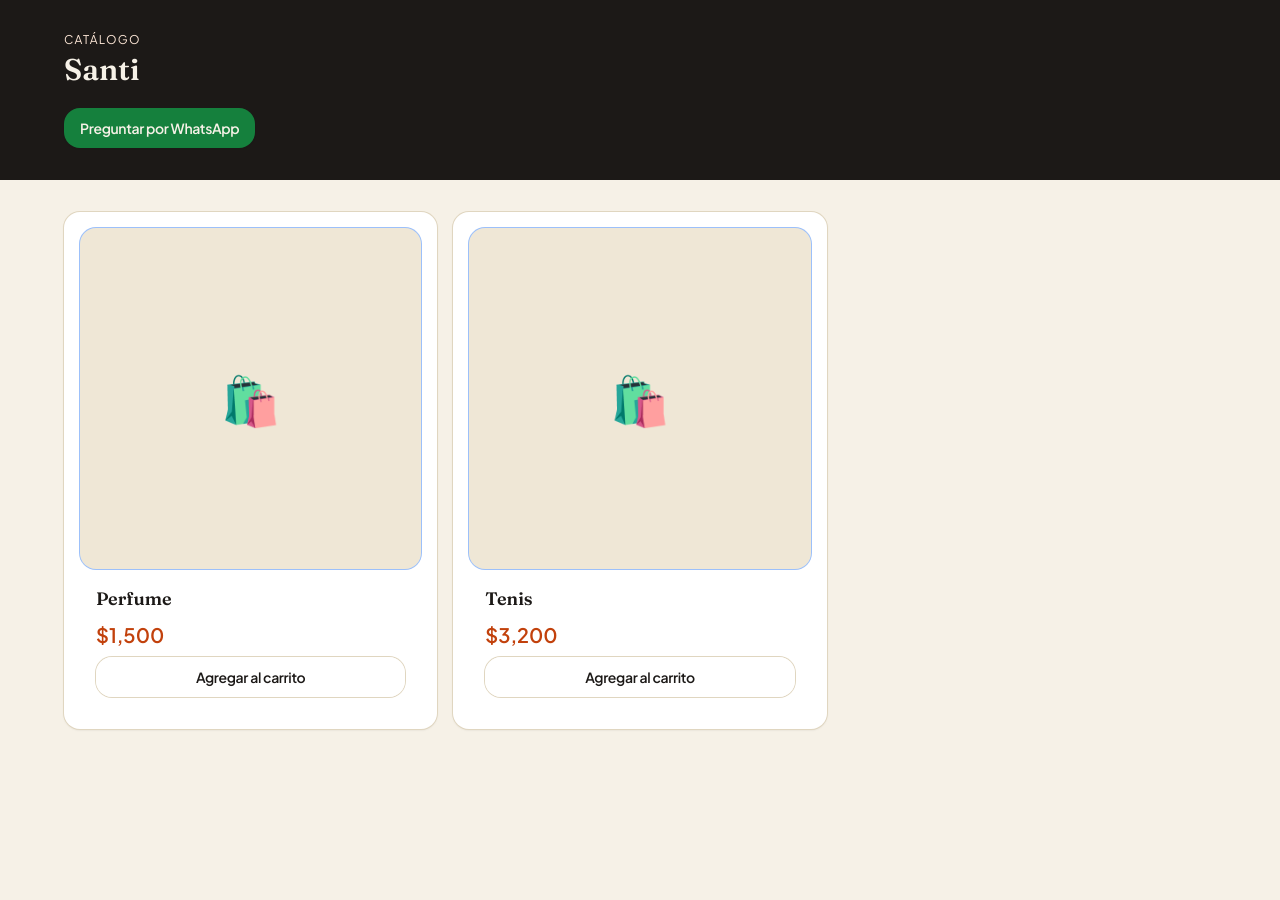
Test: PublicCatalogScreen carrito › agrega productos, muestra cantidades en las tarjetas y arma el pedido
Click the button "Agregar al carrito" below "$1,500". click: (251, 677)
box: [96,657,405,697]
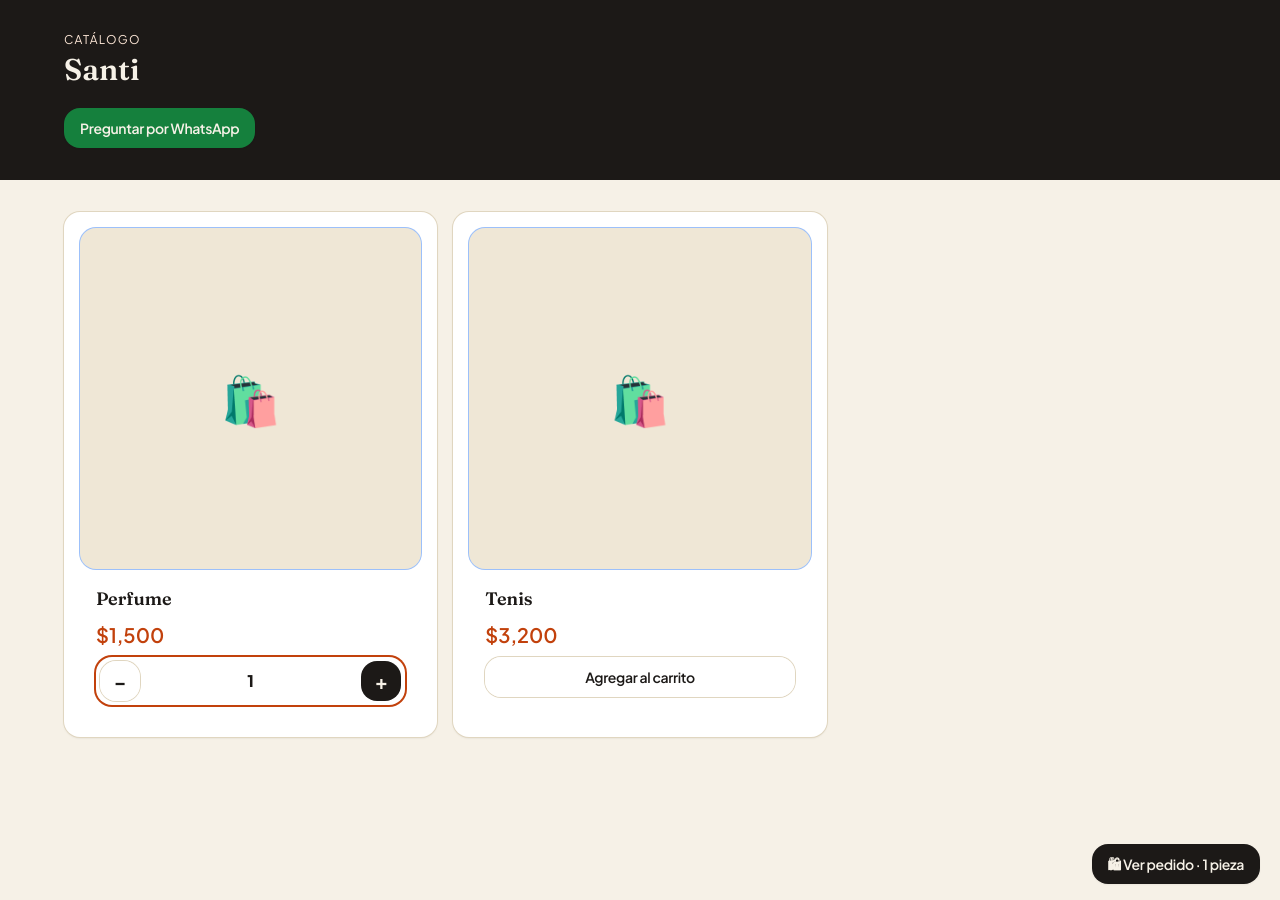
Check: the text "1" is shown, box [247,670,254,691]
Click the button named "Sumar una pieza de Perfume". click: (381, 681)
box: [361,661,401,701]
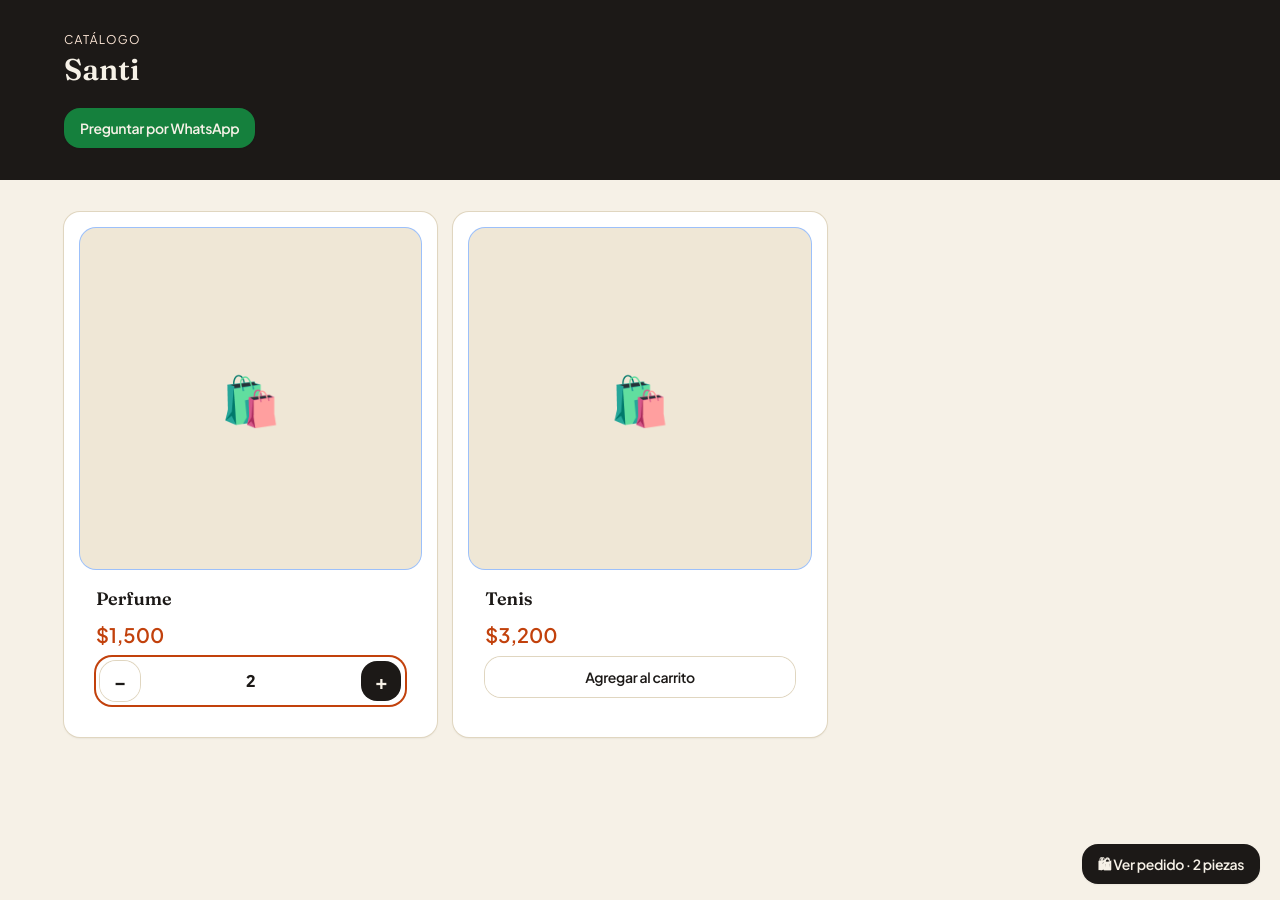
Check: the text "2" is shown, box [246,670,255,691]
Click the button "Agregar al carrito". click: (640, 677)
box: [485,657,795,697]
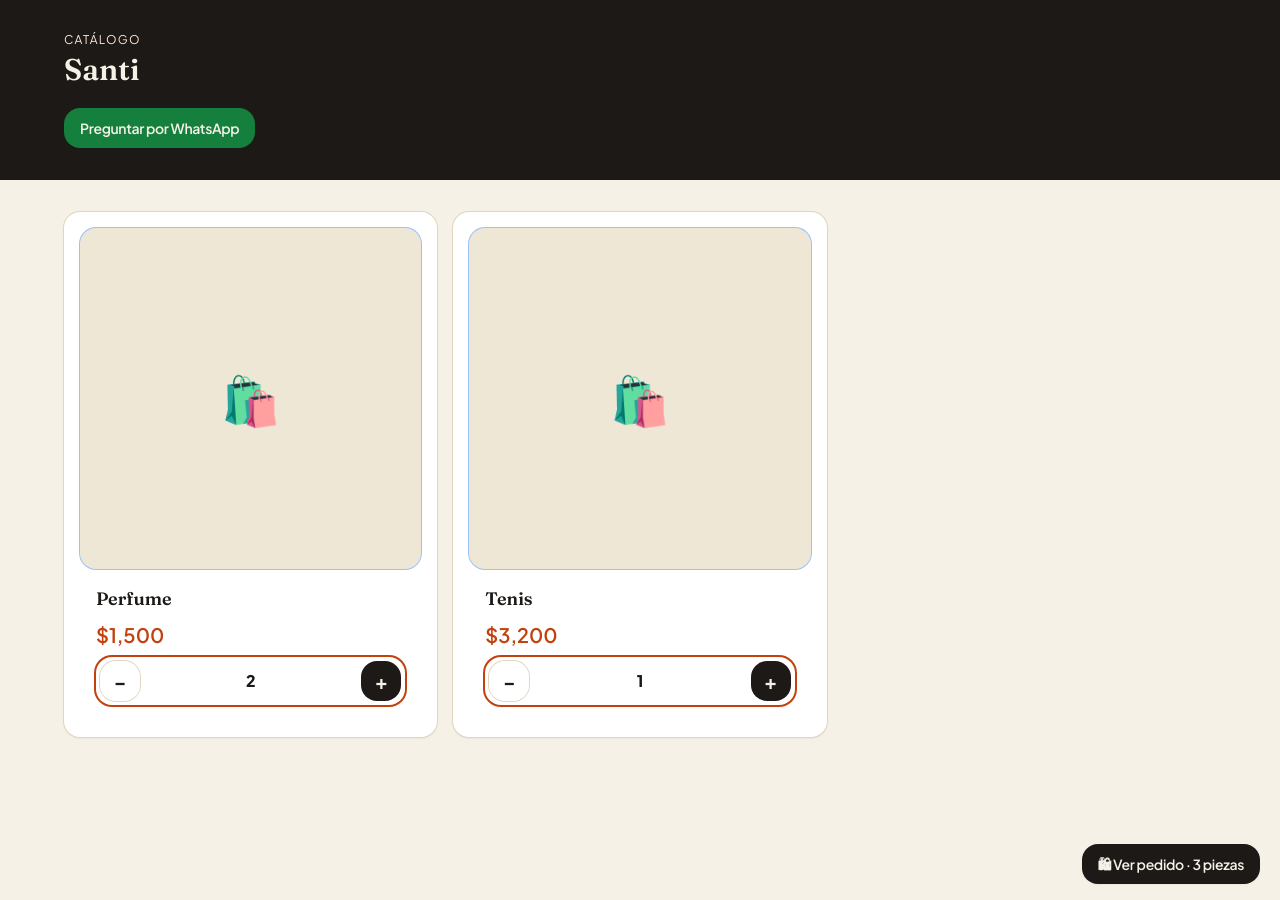
Check: the button with aria-label "Abrir pedido" shows "3 piezas"
Click the button with aria-label "Abrir pedido". click: (1171, 864)
box: [1082,844,1260,884]
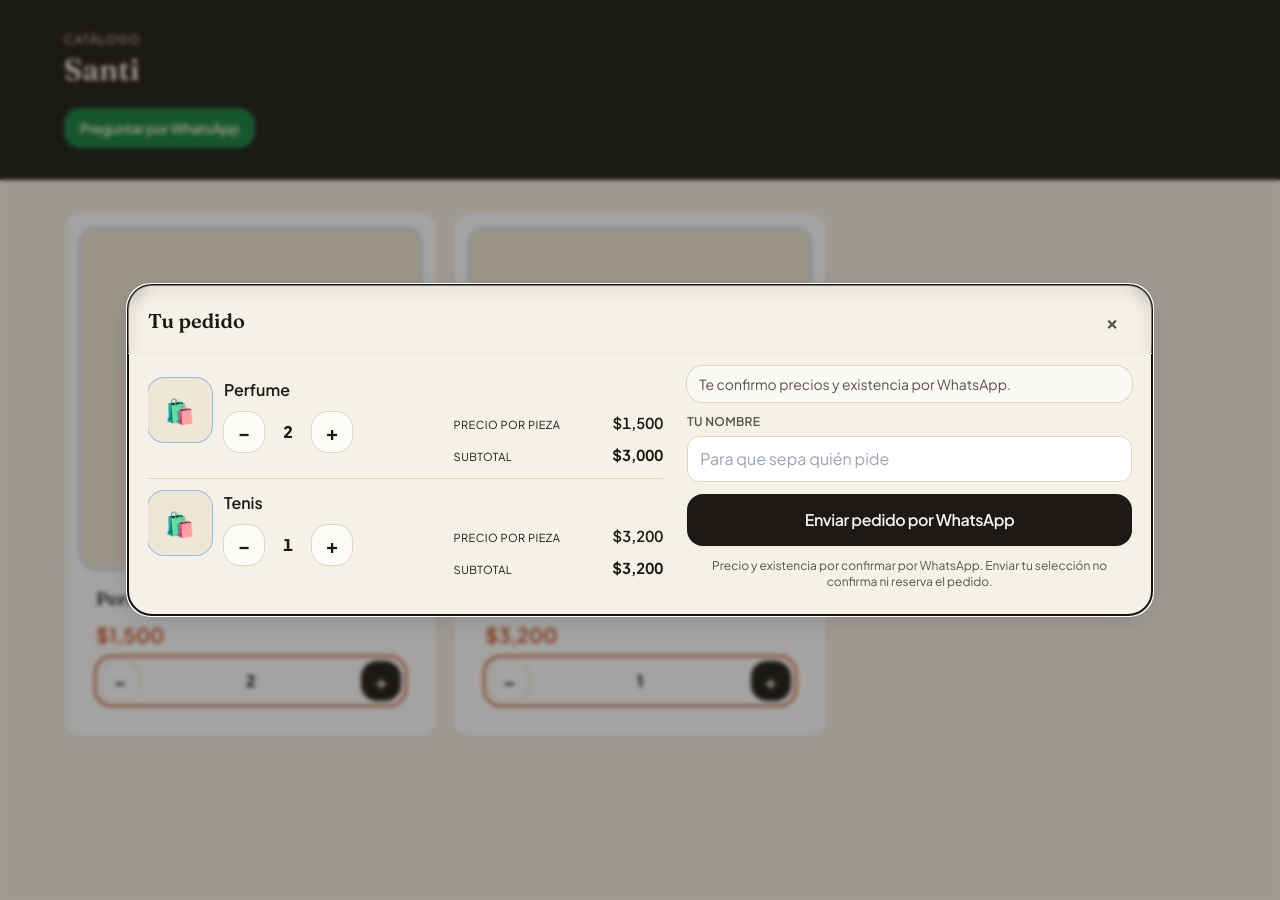
Check: the text "Perfume" is shown, box [224,378,290,402]
Check: the text "Tenis" is shown, box [224,491,263,515]
Check: the text "Precio por pieza" is shown 2 times, box [454,418,560,431]; [454,531,560,544]
